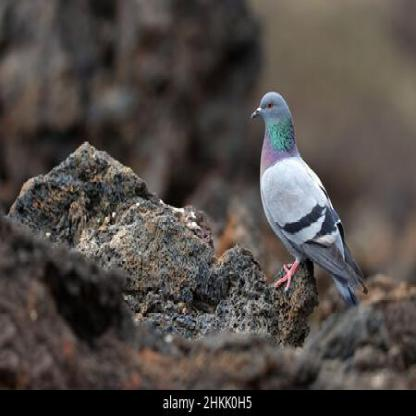Rock Pigeon: (246, 92, 362, 291)
